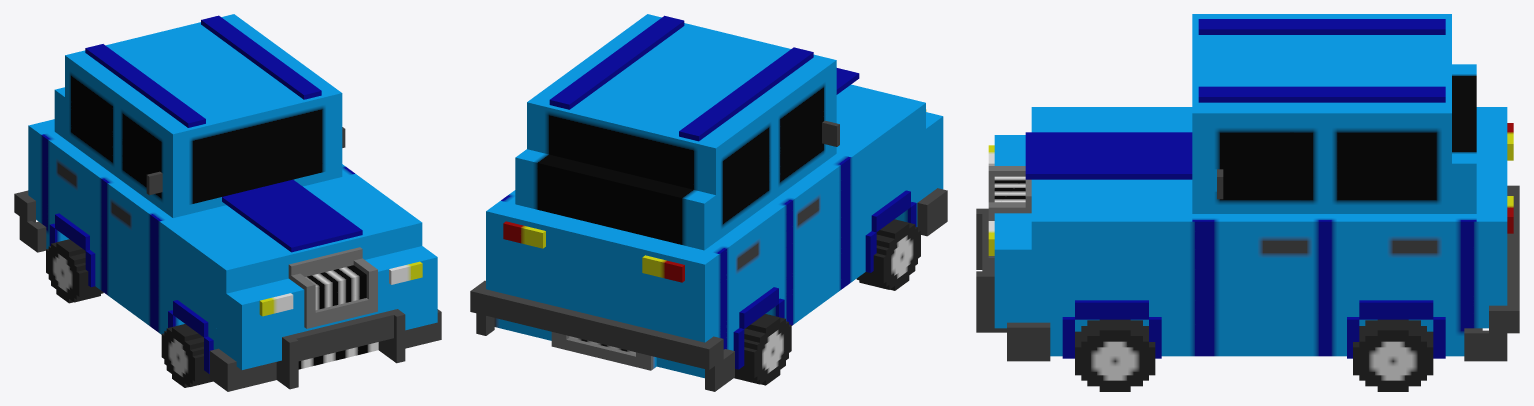
File: car_detail_2.fbx
3 renders of one model, left to right at view 1: azimuth 30°, elevation 25°; view 2: azimuth 150°, elevation 25°; view 3: azimuth 270°, elevation 25°, orthographic. The views are drawn at different scales.
Parts seen in each view (by area): view 1: body, back_left_wheel, back_right_wheel; view 2: body, back_right_wheel, back_left_wheel; view 3: body, front_left_wheel, front_right_wheel.
Boxes of the visible parts, bbox=[...] form: body: bbox=[14, 14, 441, 391]; back_left_wheel: bbox=[46, 239, 103, 303]; back_right_wheel: bbox=[161, 324, 212, 387]; body: bbox=[470, 14, 947, 391]; back_right_wheel: bbox=[856, 219, 920, 290]; back_left_wheel: bbox=[734, 314, 791, 385]; body: bbox=[976, 14, 1519, 361]; front_left_wheel: bbox=[1353, 319, 1433, 391]; front_right_wheel: bbox=[1075, 319, 1155, 391].
Bounding box in the file's own units: 50 × 48 × 88.
1 material, 1 textured.
